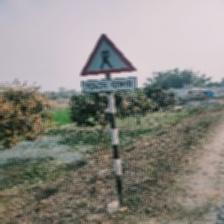Market-in-front: (79, 33, 139, 93)
